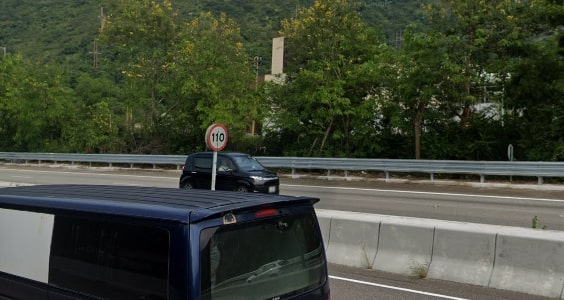Speed Limit: (205, 125, 230, 151)
